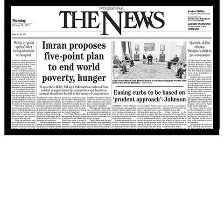news_paper: (7, 4, 215, 133)
